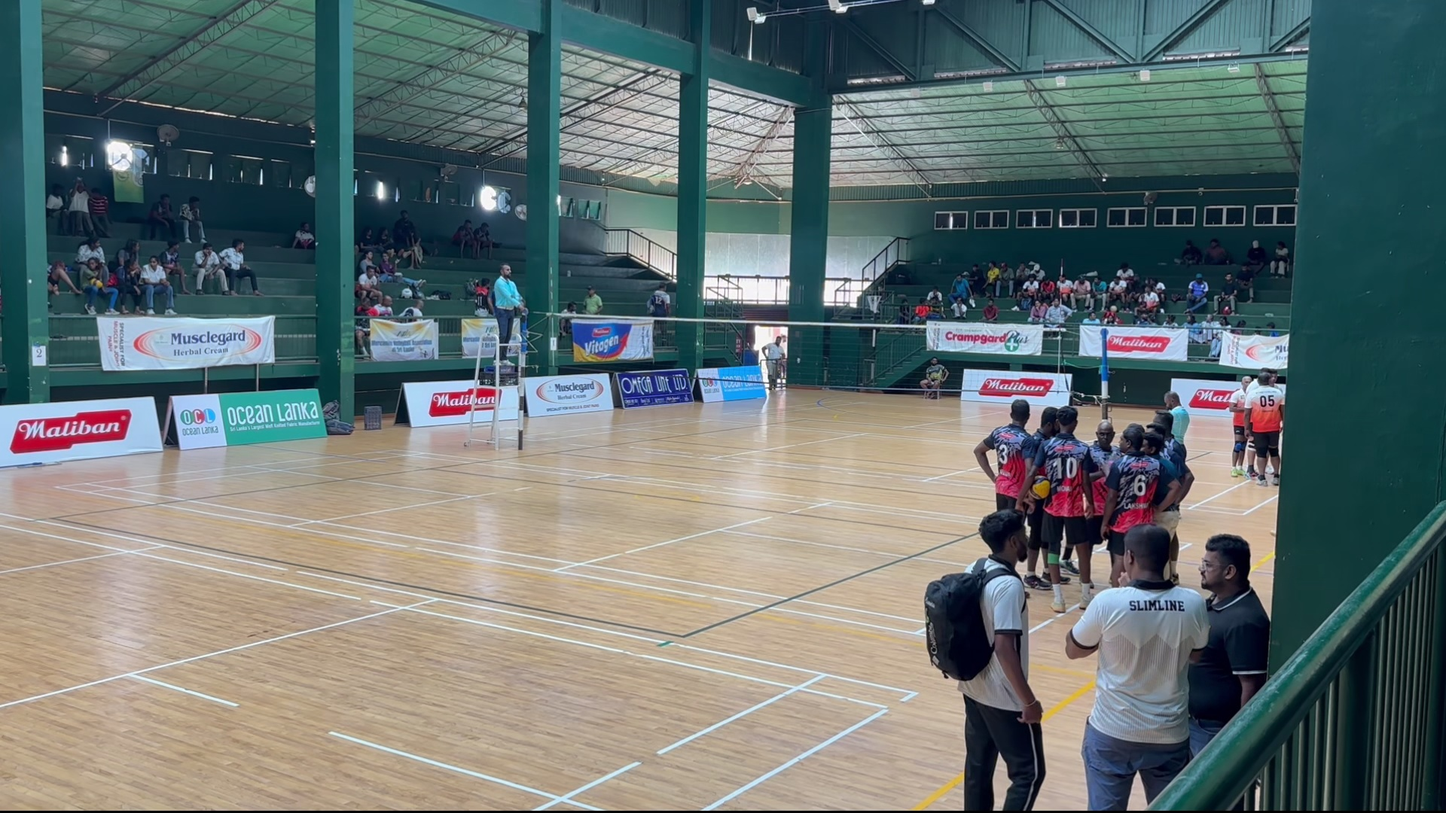Ball: (492, 262, 529, 366)
Payer_B: (1046, 410, 1097, 586), (1107, 429, 1158, 588), (1023, 404, 1065, 587), (1096, 423, 1137, 589), (1077, 416, 1115, 592), (986, 403, 1033, 540), (998, 403, 1037, 550)
